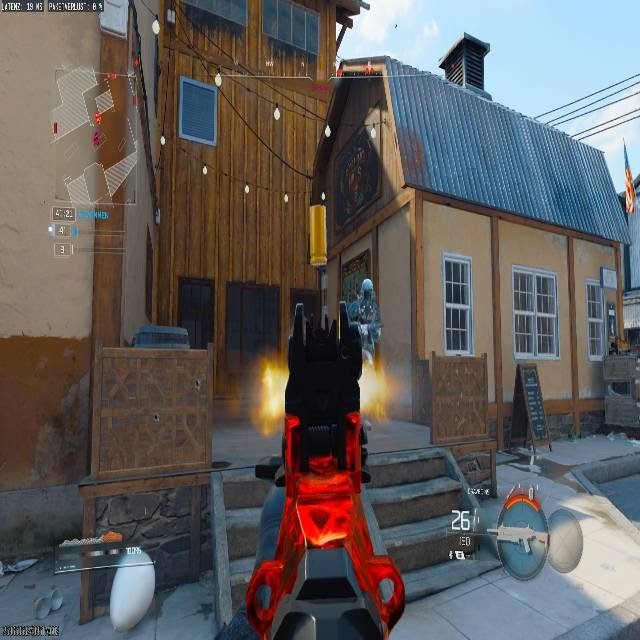head: (360, 278, 373, 297)
player: (346, 278, 380, 388)
